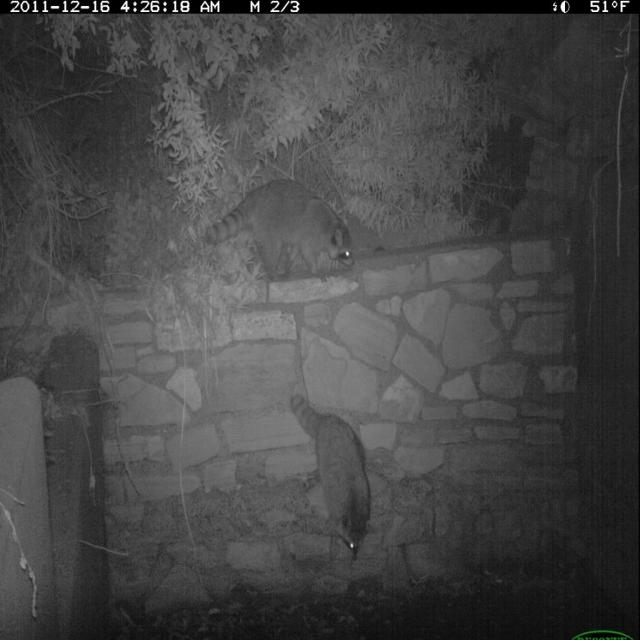raccoon: (206, 167, 382, 299), (286, 381, 393, 572)
